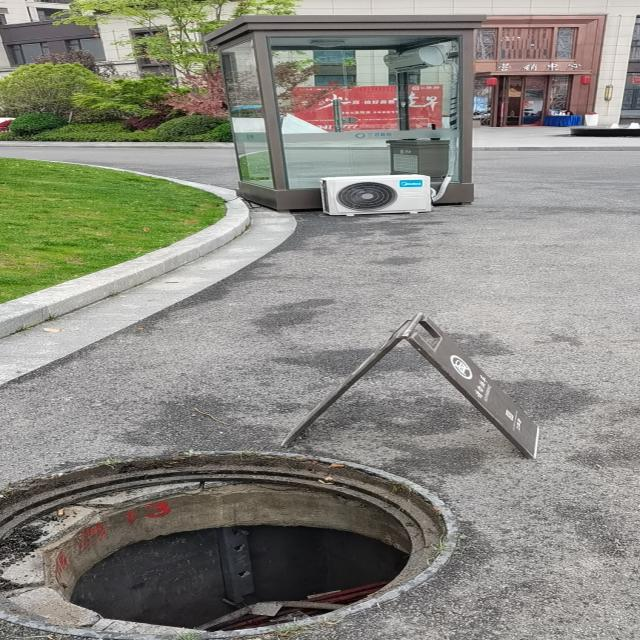Uncovered: (0, 446, 464, 639)
